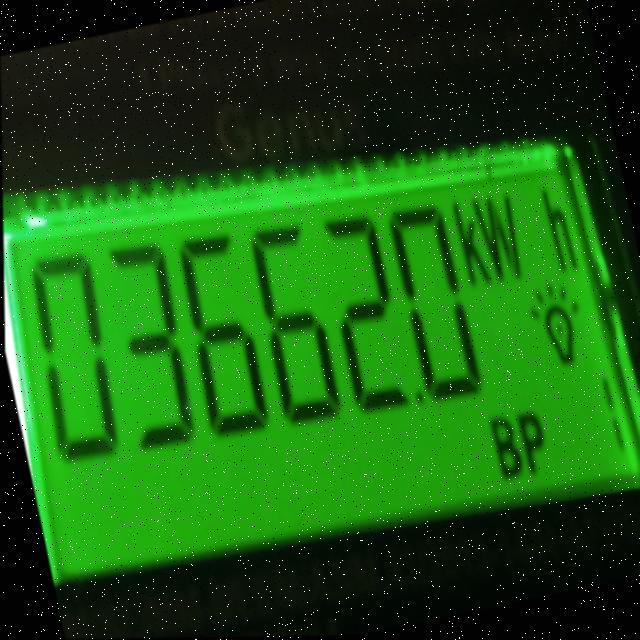.: (412, 391, 425, 405)
0: (21, 247, 127, 459), (389, 203, 483, 405)
2: (321, 217, 410, 415)
3: (102, 240, 197, 445)
6: (173, 231, 270, 438), (247, 220, 341, 422)
